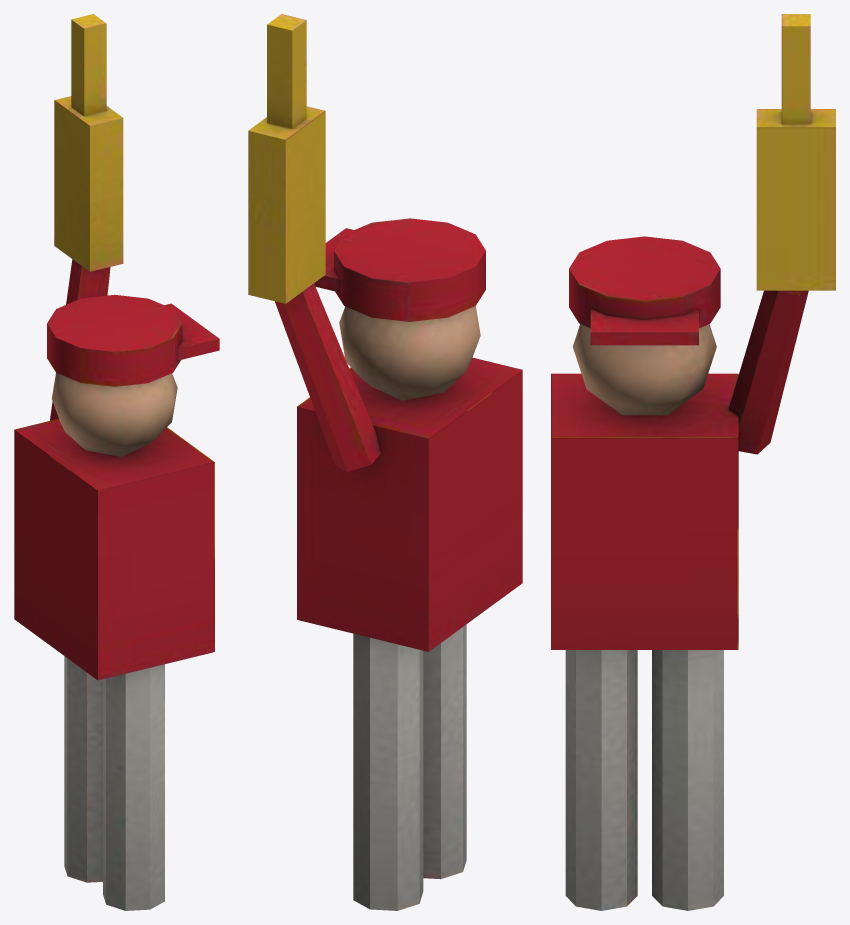
Rendered from fan_cardinals.glb.
3 views of the same model, side by side, from view 1: azimuth 30°, elevation 25°; view 2: azimuth 150°, elevation 25°; view 3: azimuth 270°, elevation 25° (orthographic). The views are drawn at different scales.
Visible parts, largest first — view 1: fan_cardinals; view 2: fan_cardinals; view 3: fan_cardinals.
Boxes of the visible parts, x1=… form: fan_cardinals: x1=14, y1=14, x2=219, y2=910; fan_cardinals: x1=248, y1=14, x2=522, y2=910; fan_cardinals: x1=551, y1=14, x2=835, y2=910.
Size of the model in its own units: 0.5 by 2.75 by 0.79.
Materials: 1 (1 with a texture image).
